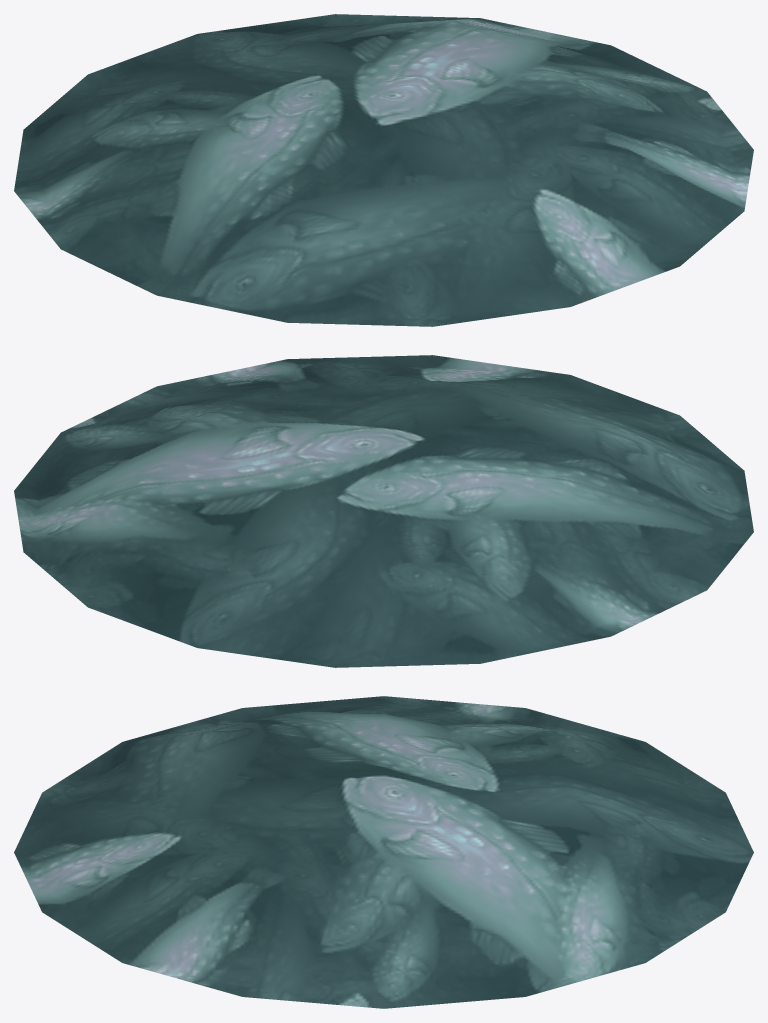
The model's file is SM_PROP_barrel_filling_town_04.fbx.
3 views of the same model, one above another, from view 1: azimuth 30°, elevation 25°; view 2: azimuth 150°, elevation 25°; view 3: azimuth 270°, elevation 25° (orthographic).
Parts seen in each view (by area): view 1: SM_PROP_barrel_filling_town_04_LOD0; view 2: SM_PROP_barrel_filling_town_04_LOD0; view 3: SM_PROP_barrel_filling_town_04_LOD0.
Boxes of the visible parts, x1,y1,x2,y2 form: SM_PROP_barrel_filling_town_04_LOD0: (14,14,753,326); SM_PROP_barrel_filling_town_04_LOD0: (14,355,753,667); SM_PROP_barrel_filling_town_04_LOD0: (14,696,753,1008).
Size of what is drawn, in the model's own units: 70 by 7.16 by 70.
